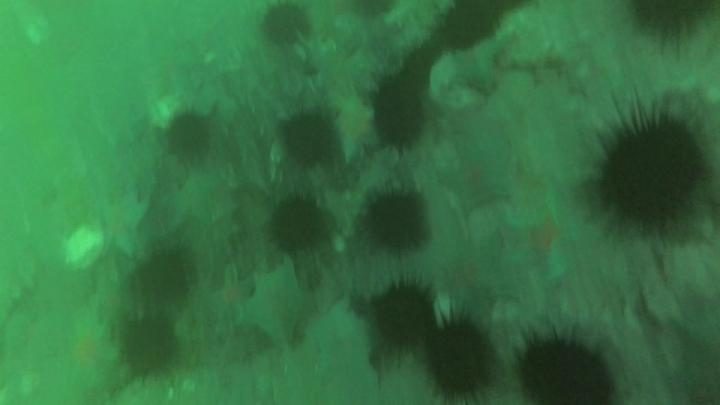echinus: (606, 122, 704, 226), (521, 341, 612, 405), (430, 322, 495, 395), (375, 284, 438, 345), (373, 76, 425, 148), (635, 3, 719, 40), (369, 194, 424, 247), (123, 322, 179, 374), (132, 258, 189, 308), (271, 201, 323, 252), (283, 113, 333, 164), (437, 11, 498, 50), (167, 115, 209, 157), (262, 8, 309, 45), (402, 47, 440, 73)
scallop: (63, 226, 104, 270)
starfish: (501, 192, 588, 279), (440, 145, 514, 210), (435, 242, 496, 293)
